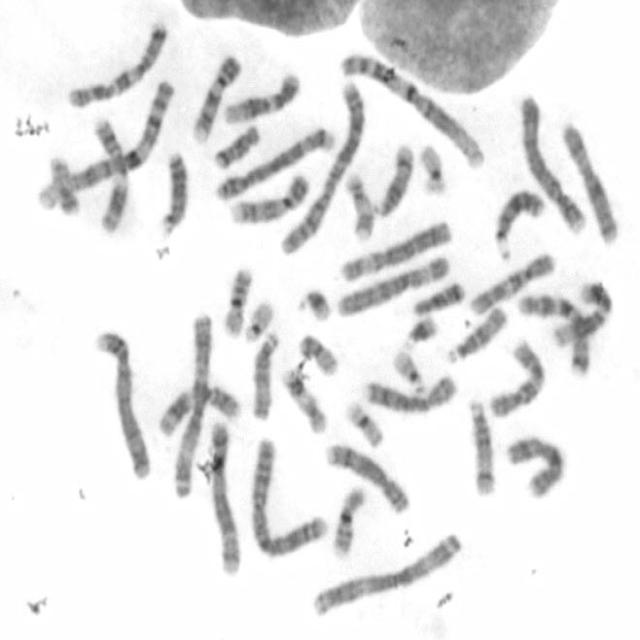A1: (35, 76, 176, 213), (338, 49, 488, 170)
A2: (277, 76, 368, 255), (246, 432, 329, 560)
A3: (306, 528, 465, 619), (168, 308, 215, 500)
B4: (90, 323, 154, 481), (518, 89, 586, 235)
B5: (211, 123, 336, 204), (205, 415, 243, 577)
C10: (465, 249, 556, 316), (484, 334, 548, 421)
C11: (88, 112, 132, 235), (154, 378, 242, 439)
C12: (548, 275, 614, 349), (220, 68, 302, 126)
C6: (332, 251, 451, 318), (337, 216, 453, 283)
C7: (63, 17, 170, 111), (516, 291, 592, 378)
C8: (321, 438, 410, 517), (359, 371, 459, 416)
C9: (189, 50, 242, 144), (227, 170, 311, 227)
D13: (490, 184, 545, 262), (156, 147, 190, 236)
D14: (464, 395, 497, 498), (371, 140, 415, 217)
D15: (442, 303, 508, 365), (248, 327, 281, 423)
E16: (328, 481, 368, 558), (219, 262, 255, 338)
E17: (279, 363, 330, 436), (342, 169, 377, 243)
E18: (209, 121, 262, 171), (409, 277, 467, 317)
F19: (342, 396, 386, 449), (416, 138, 448, 198)
F20: (46, 151, 80, 217), (295, 330, 339, 376)
G21: (294, 282, 332, 323), (400, 311, 440, 349)
G22: (390, 344, 428, 396), (240, 296, 274, 344)
X: (558, 117, 620, 246), (503, 430, 567, 500)
